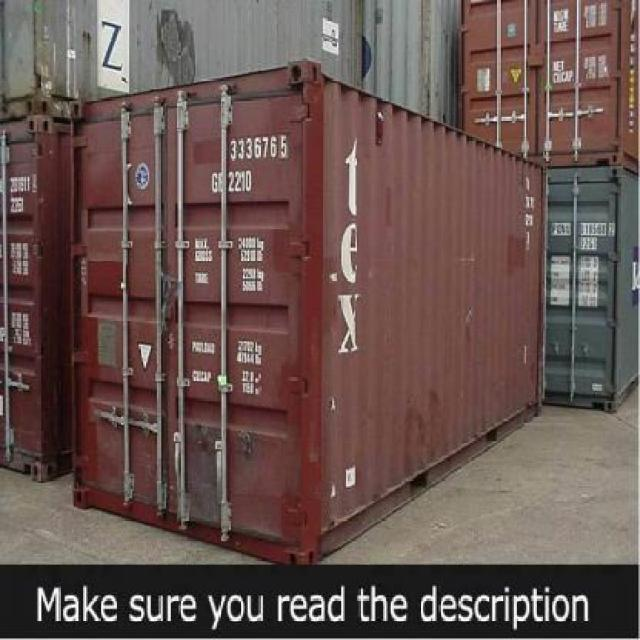ISO: (208, 167, 248, 196)
container_number: (192, 134, 306, 158)
